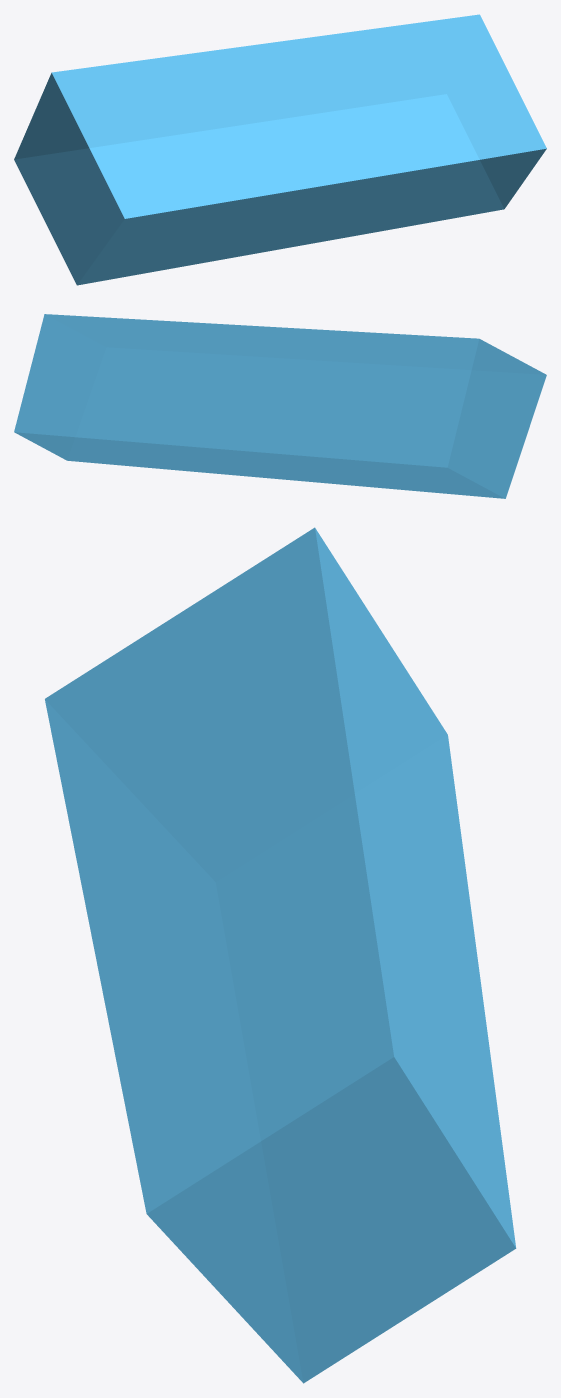
Rendered from Event_421364160_HErechit_41.fbx.
The picture shows the model from 3 angles, top to bottom: view 1: azimuth 30°, elevation 25°; view 2: azimuth 150°, elevation 25°; view 3: azimuth 270°, elevation 25°; orthographic projection. The views are drawn at different scales.
Visible parts, largest first — view 1: Model; view 2: Model; view 3: Model.
Part boxes in pixels (<box>): Model: <box>14,14,546,285</box>; Model: <box>14,314,546,498</box>; Model: <box>45,527,516,1383</box>.
Bounding box in the file's own units: 0.9753 × 0.5045 × 0.4781.
